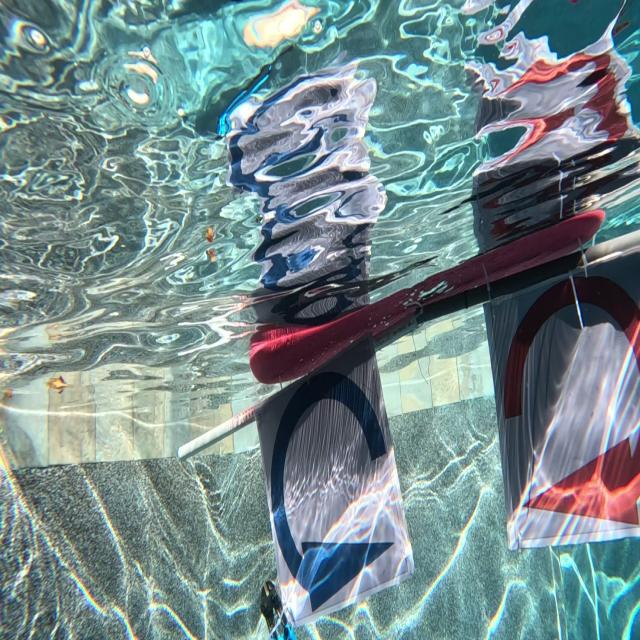blue_side: (270, 378, 394, 606)
red_side: (502, 262, 640, 536)
